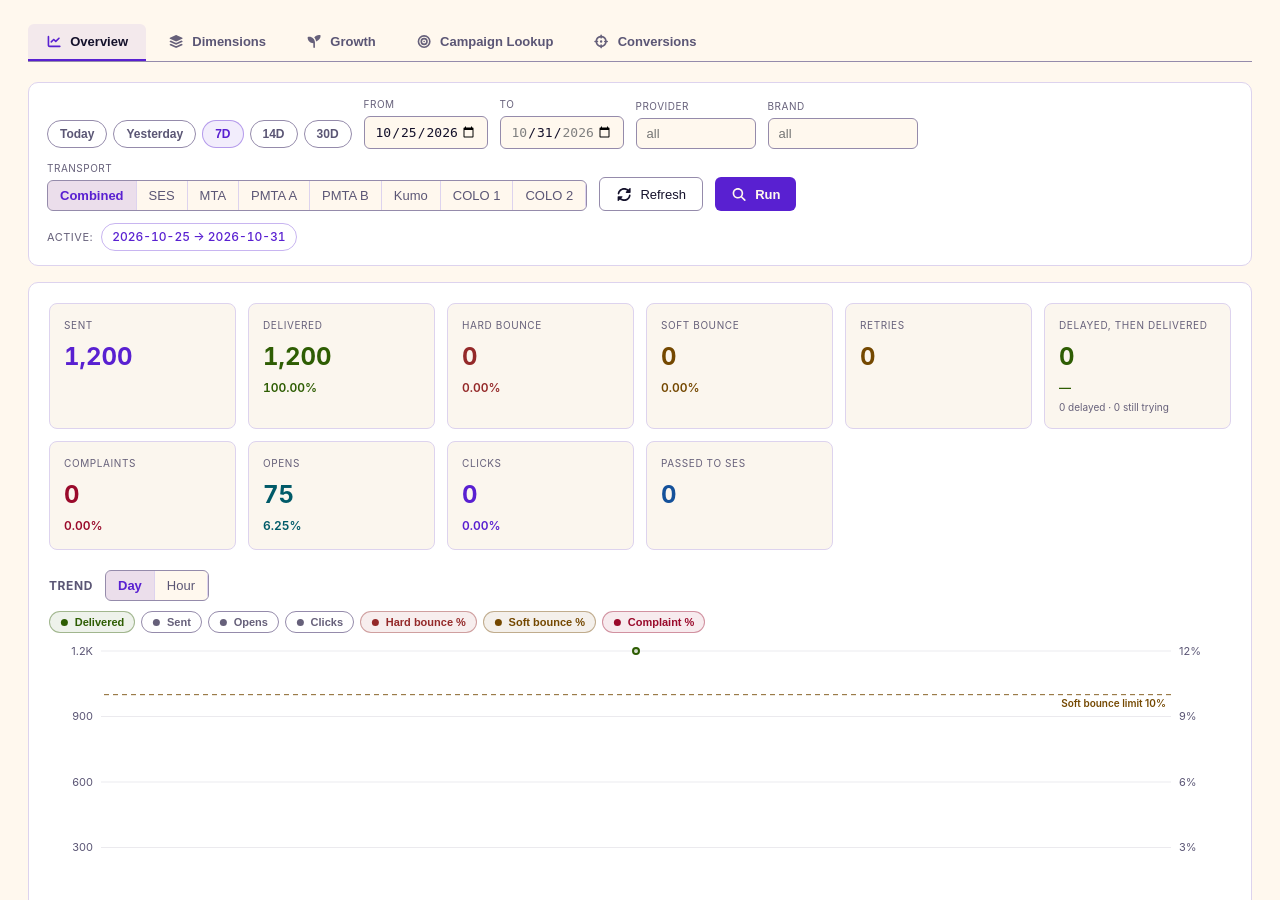
Test: Dimensions › has no Source or Variant rows
This screenshot has width=1280, height=900.
Step 1. Click the button "Dimensions" → (217, 42), box [150,24,284,61]
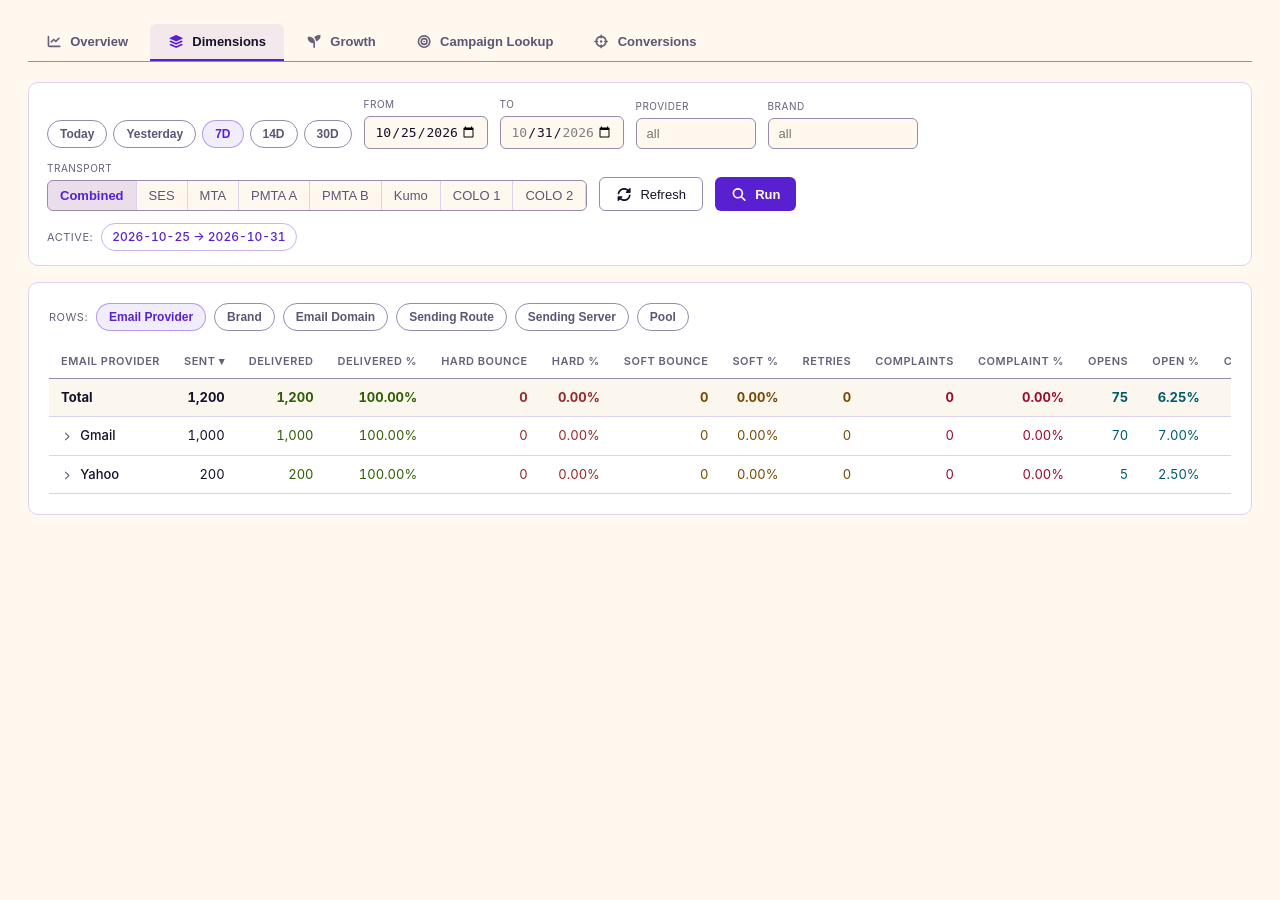
Now the button "Sending Route" is shown, box [396,303,507,331]
